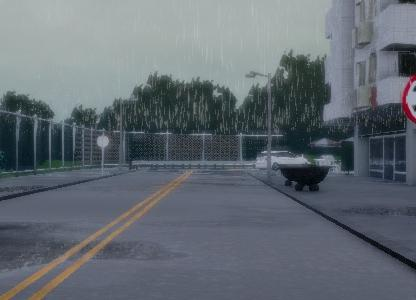Speed_30: (400, 70, 416, 130)
